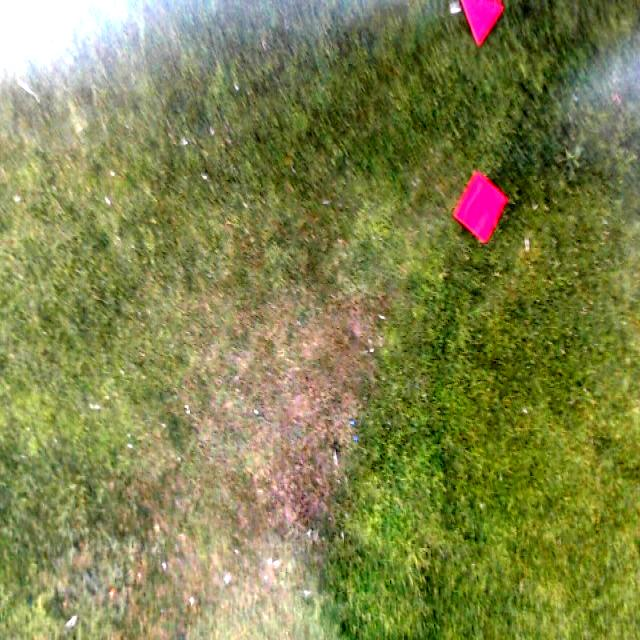red_square: (452, 172, 504, 245)
